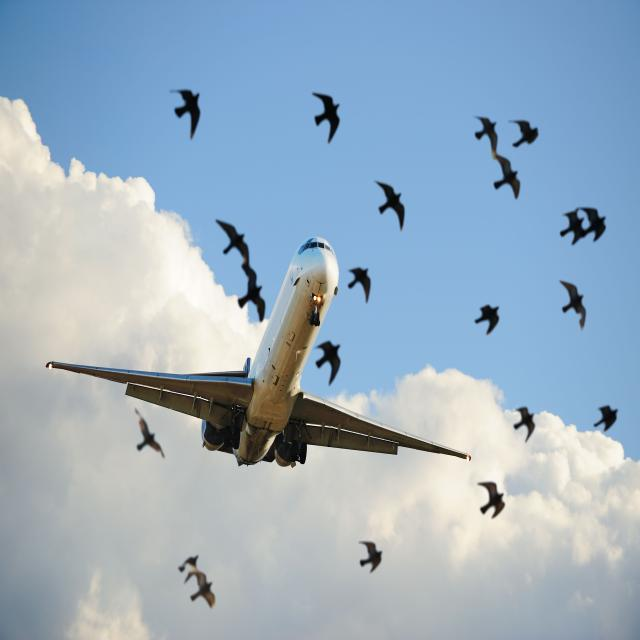bird: (164, 80, 217, 146), (367, 179, 421, 240), (121, 406, 170, 470), (209, 214, 255, 272), (553, 277, 596, 335), (307, 87, 347, 149), (340, 258, 389, 303), (492, 147, 526, 206), (467, 112, 505, 162), (475, 477, 510, 531), (182, 568, 222, 612), (355, 538, 394, 579), (313, 339, 347, 386), (511, 110, 544, 157), (593, 402, 628, 446), (470, 302, 510, 340), (511, 403, 541, 450), (558, 208, 589, 249)
